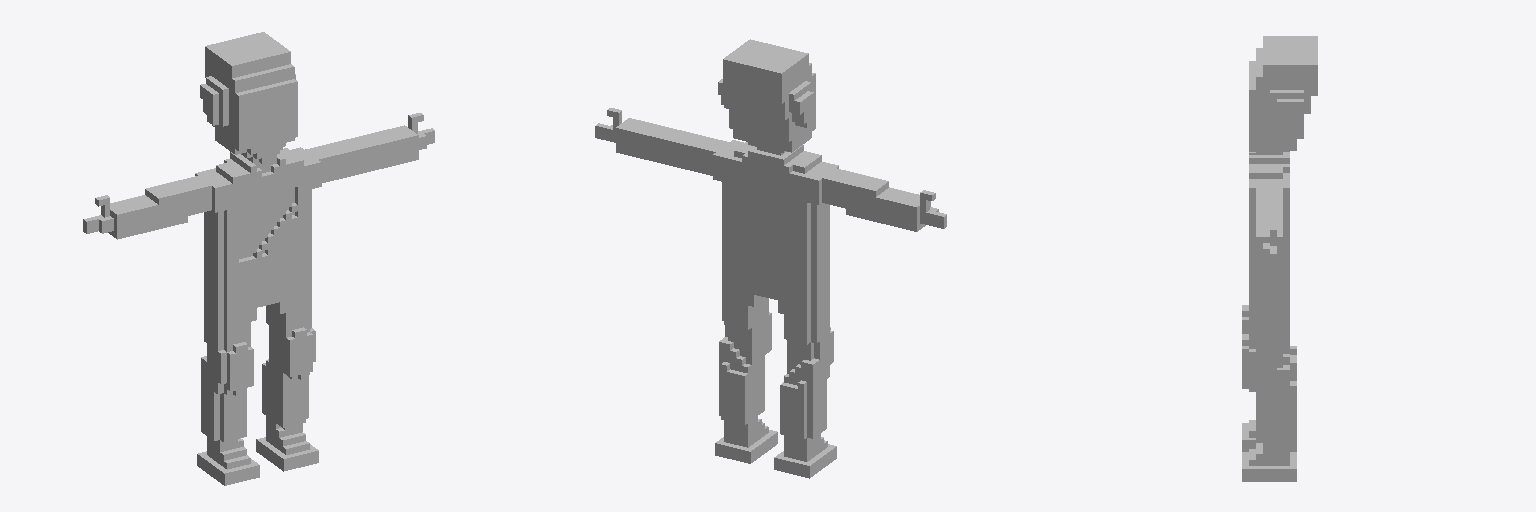
File: pl 2 anim 2.obj
3 renders of one model, left to right at view 1: azimuth 30°, elevation 25°; view 2: azimuth 150°, elevation 25°; view 3: azimuth 270°, elevation 25°, orthographic.
Visible parts, largest first — view 1: object 1; view 2: object 1; view 3: object 1.
Part boxes in pixels (bbox=[...]): object 1: bbox=[83, 32, 434, 485]; object 1: bbox=[595, 39, 946, 478]; object 1: bbox=[1242, 36, 1317, 481].
Size of the model in its own units: 5.9 by 6.6 by 1.1.